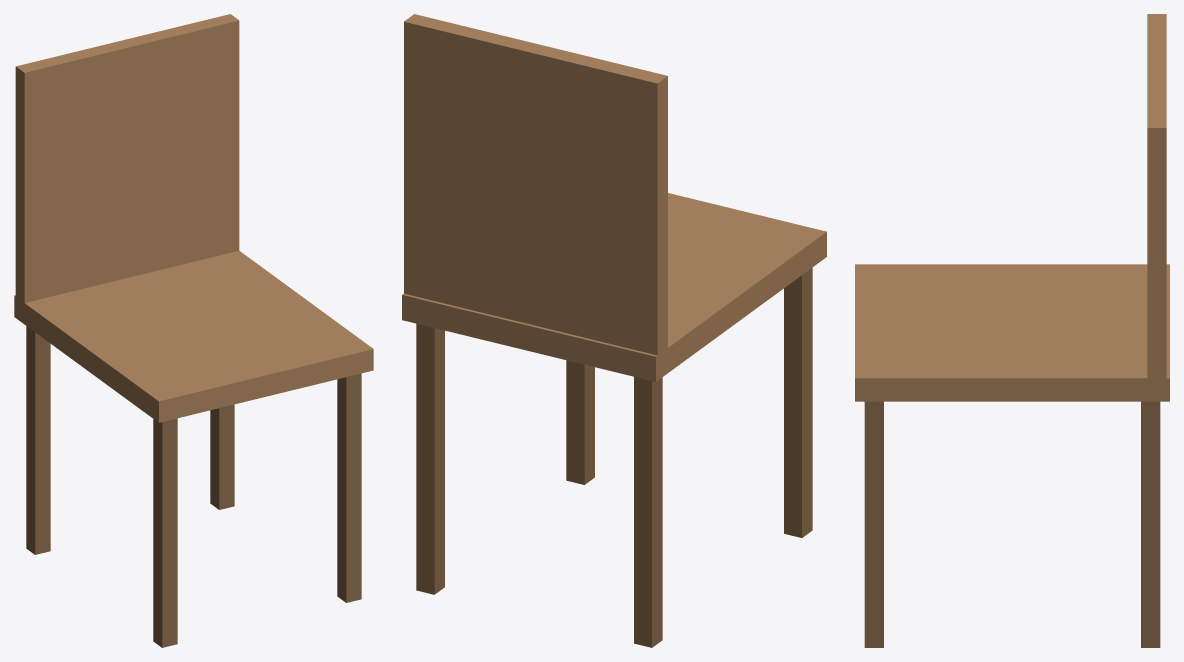
Rendered from chaise-1.glb.
3 renders of one model, left to right at view 1: azimuth 30°, elevation 25°; view 2: azimuth 150°, elevation 25°; view 3: azimuth 270°, elevation 25°, orthographic. The views are drawn at different scales.
Visible parts, largest first — view 1: produit; view 2: produit; view 3: produit.
Boxes of the visible parts, x1,y1,x2,y2 form: produit: (14, 14, 373, 647); produit: (402, 14, 826, 647); produit: (855, 14, 1169, 647).
Bounding box in the file's own units: 0.42 × 0.9 × 0.49.
